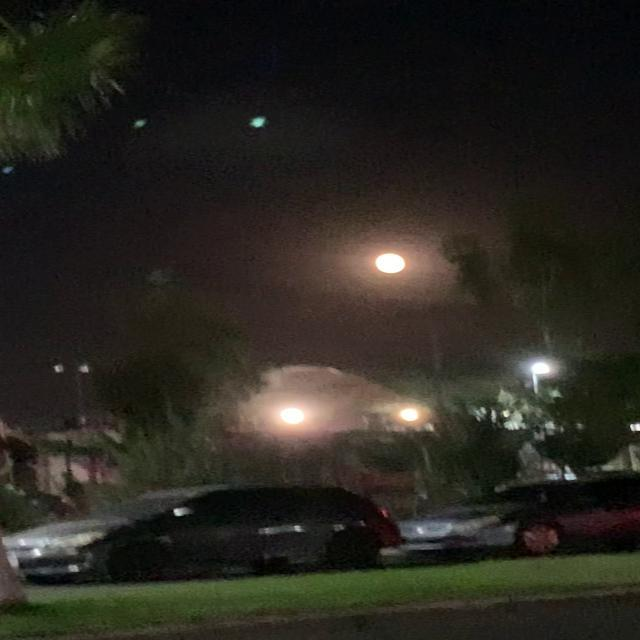moon: (363, 254, 416, 280)
